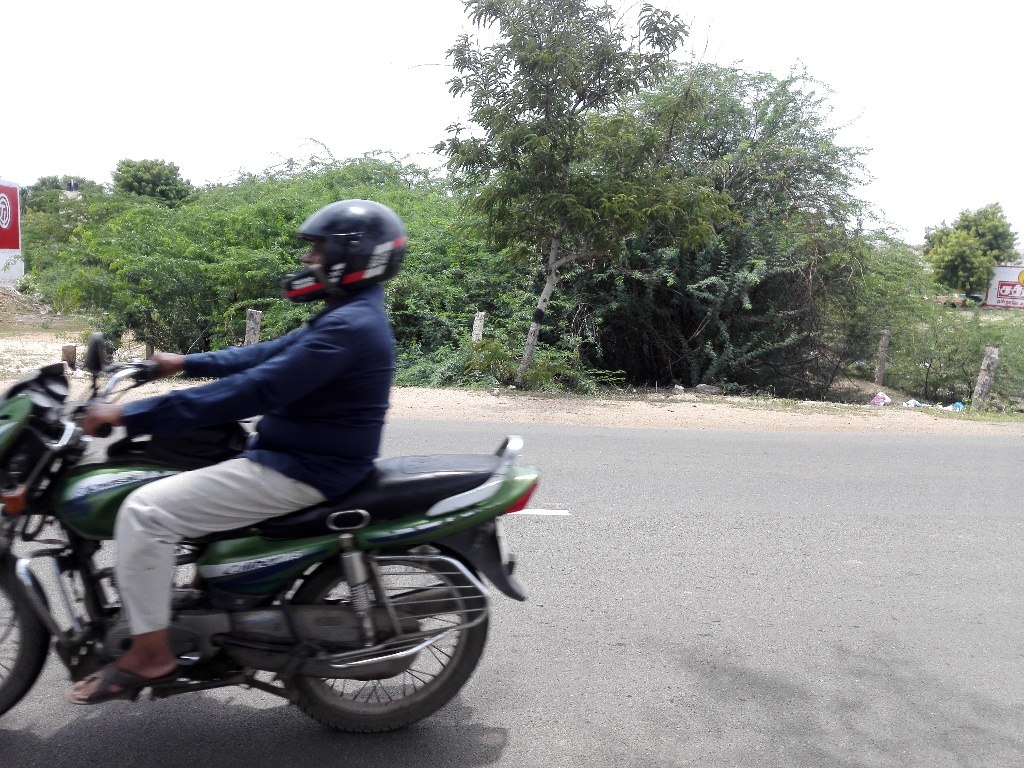biker: (1, 164, 582, 748)
helmet: (263, 180, 423, 323)
